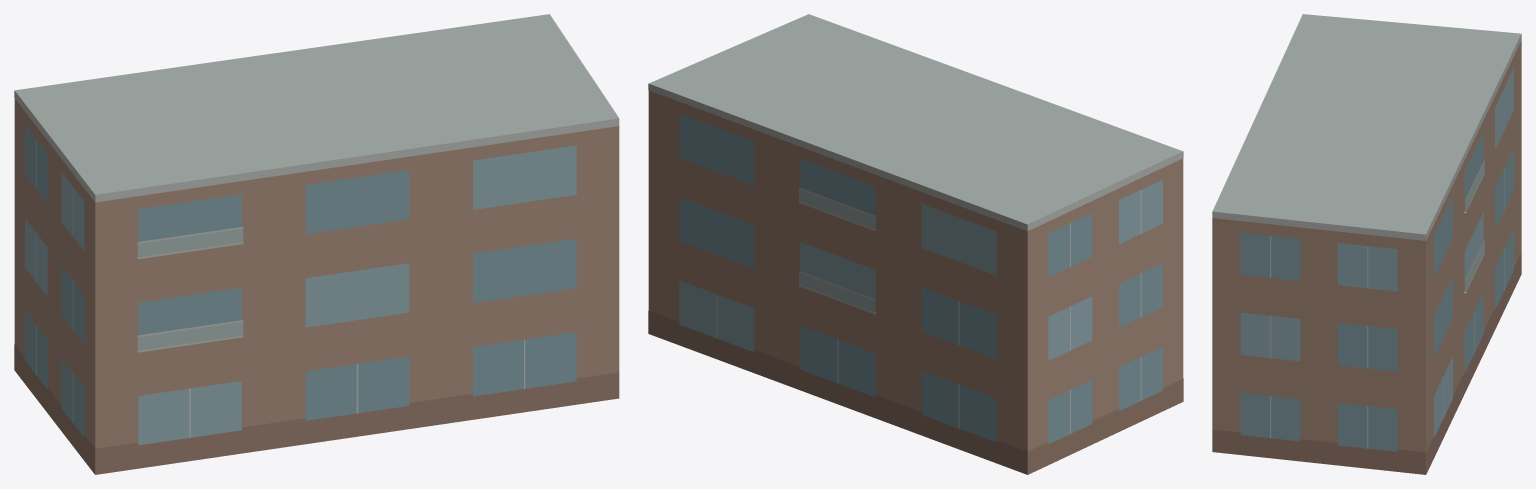
File: survey-upis-32898825.glb
The picture shows the model from 3 angles, left to right: view 1: azimuth 30°, elevation 25°; view 2: azimuth 150°, elevation 25°; view 3: azimuth 270°, elevation 25°; orthographic projection. The views are drawn at different scales.
Visible parts, largest first — view 1: survey-upis-32898825.tmp; view 2: survey-upis-32898825.tmp; view 3: survey-upis-32898825.tmp.
Boxes of the visible parts, x1=… form: survey-upis-32898825.tmp: x1=14, y1=14, x2=619, y2=474; survey-upis-32898825.tmp: x1=648, y1=14, x2=1183, y2=474; survey-upis-32898825.tmp: x1=1212, y1=14, x2=1521, y2=474.
Size of the model in its own units: 17.91 by 9.1 by 10.62.
